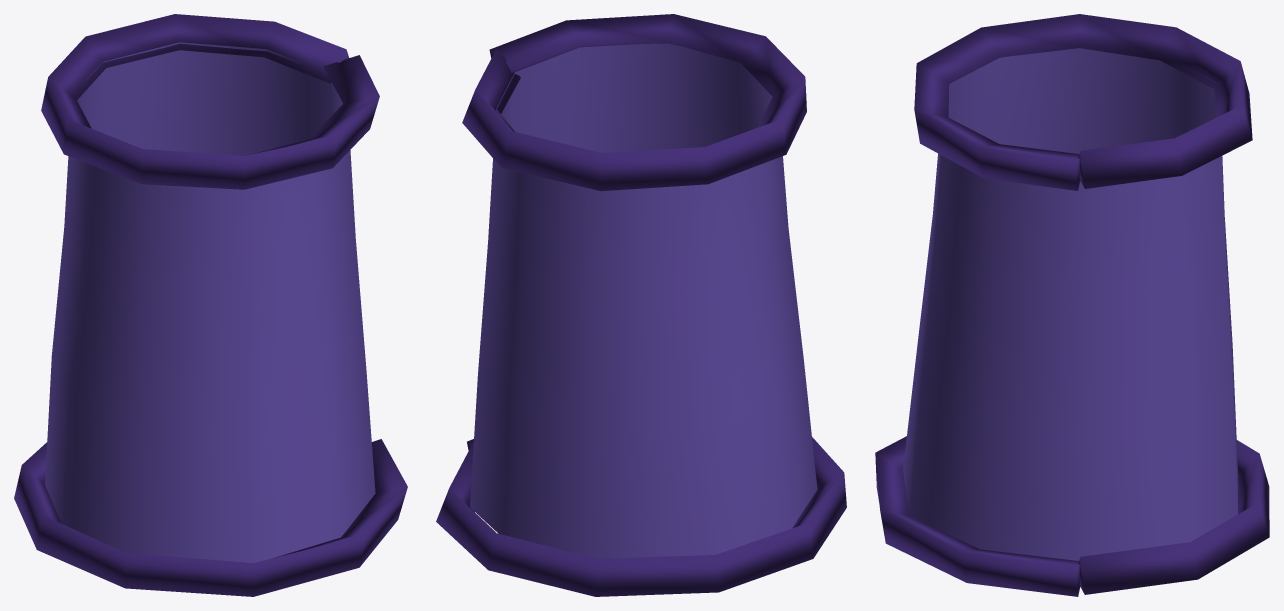
The model's file is demonite_armor_bracer.L.glb.
The picture shows the model from 3 angles, left to right: view 1: azimuth 30°, elevation 25°; view 2: azimuth 150°, elevation 25°; view 3: azimuth 270°, elevation 25°; orthographic projection. The views are drawn at different scales.
Parts seen in each view (by area): view 1: demonite_armor_bracer.L; view 2: demonite_armor_bracer.L; view 3: demonite_armor_bracer.L.
Boxes of the visible parts, x1,y1,x2,y2 form: demonite_armor_bracer.L: (14, 14, 407, 596); demonite_armor_bracer.L: (436, 14, 846, 596); demonite_armor_bracer.L: (875, 14, 1269, 596).
Size of the model in its own units: 0.144 by 0.1719 by 0.1414.
